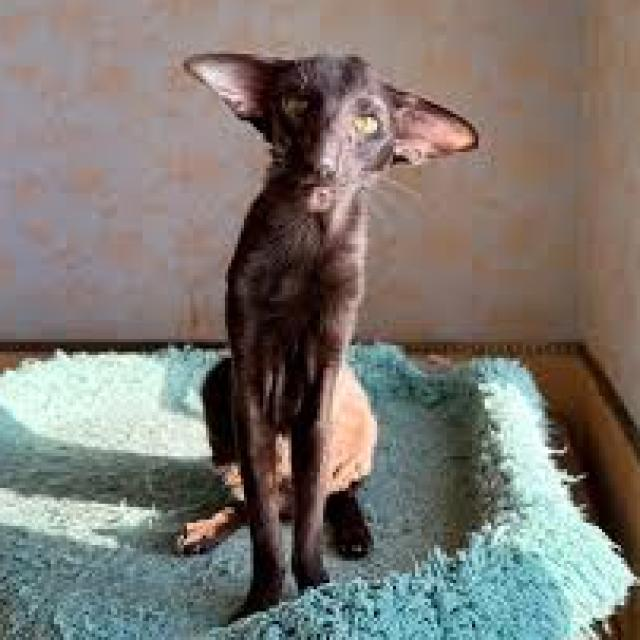Oriental: (164, 45, 484, 632)
